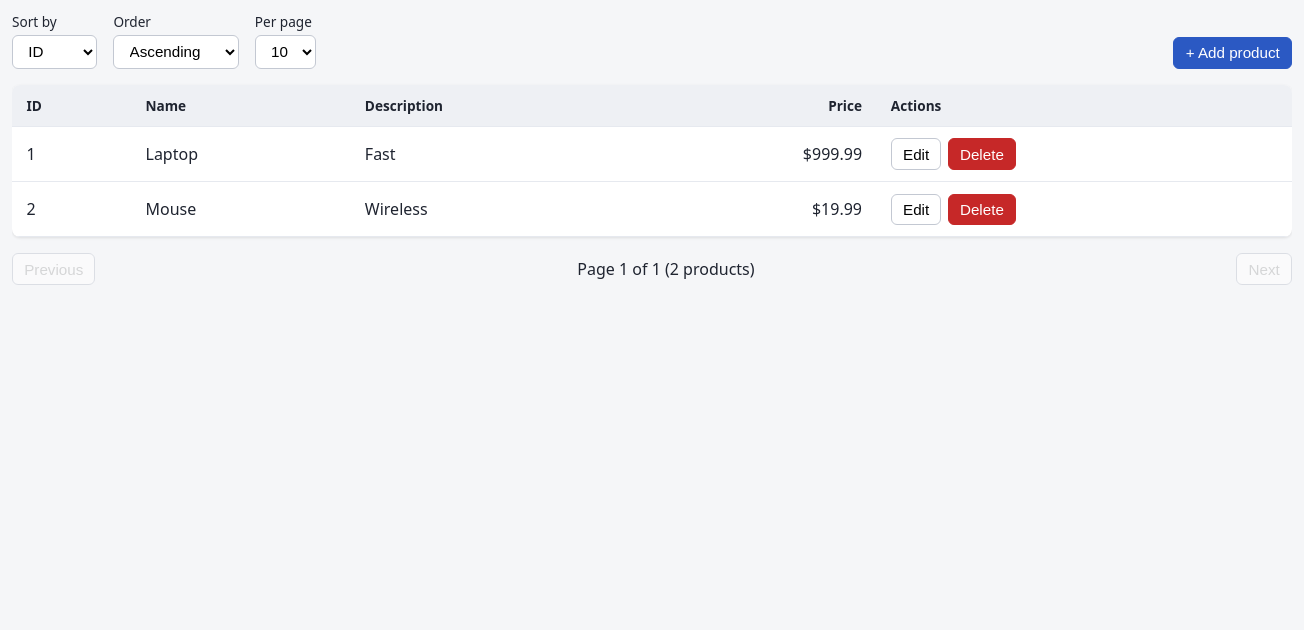
Scenario: ProductList › creates a product and shows it newest-first
Expected: the text "Laptop" is shown, [131,127,350,182]
Click the button "+ Add product".
click(1233, 53)  # box [1174,37,1292,69]
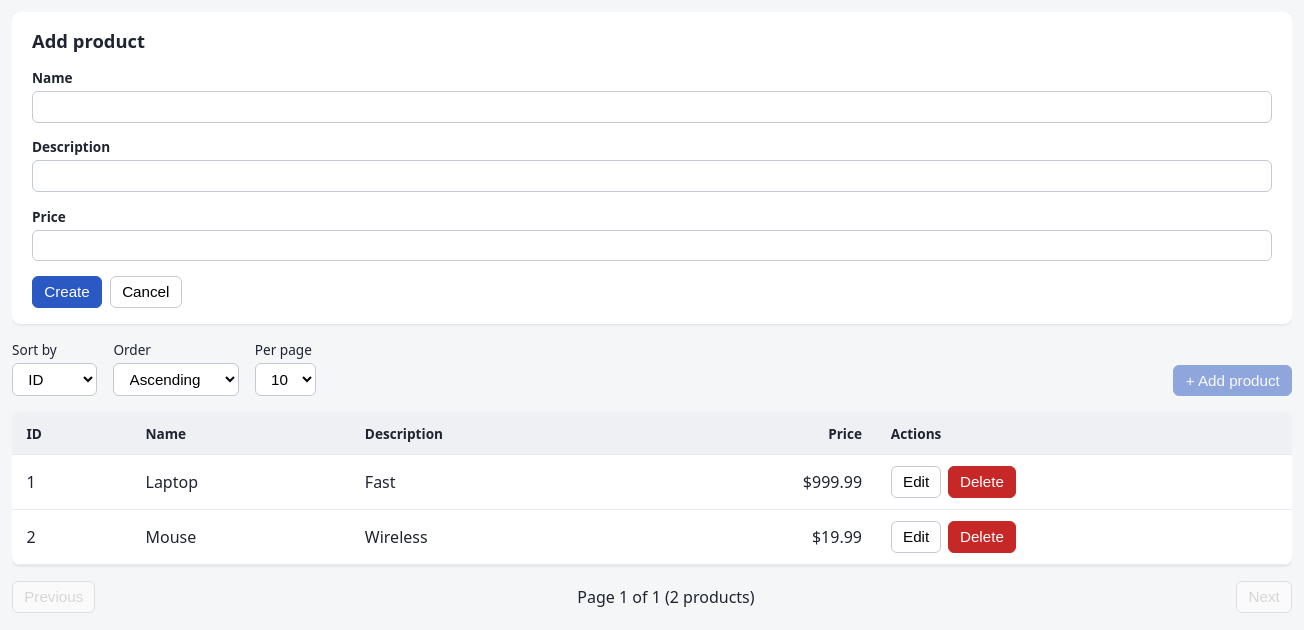
Type "Keyboard" into the field labelled "Name".
click(652, 107); type("Keyboard")  # box [32,91,1272,123]
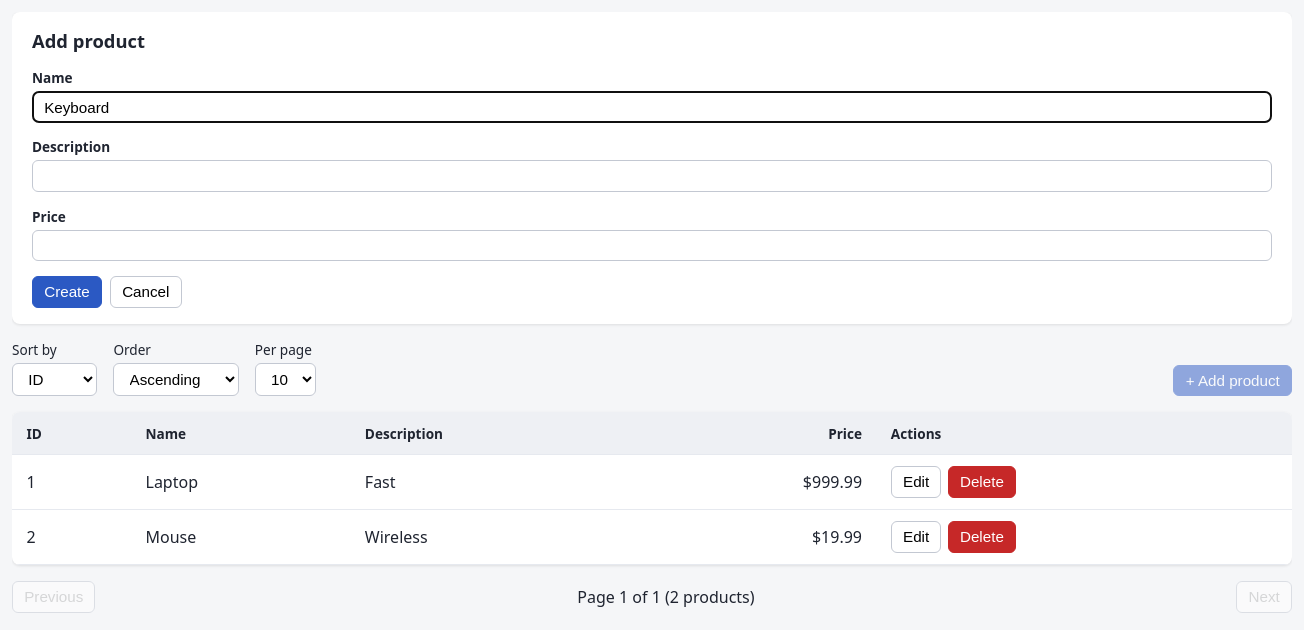
Type "49.5" into the number field labelled "Price".
click(652, 246); type("49.5")  # box [32,230,1272,261]
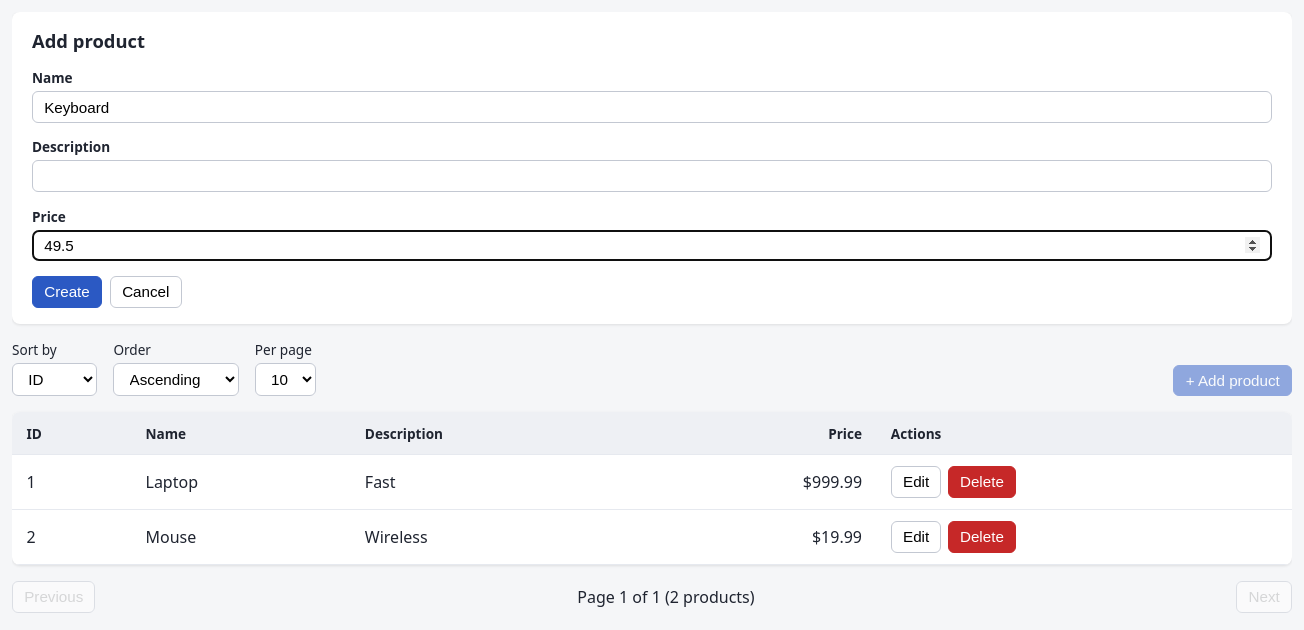
Click the button "Create".
click(67, 292)  # box [32,276,102,308]
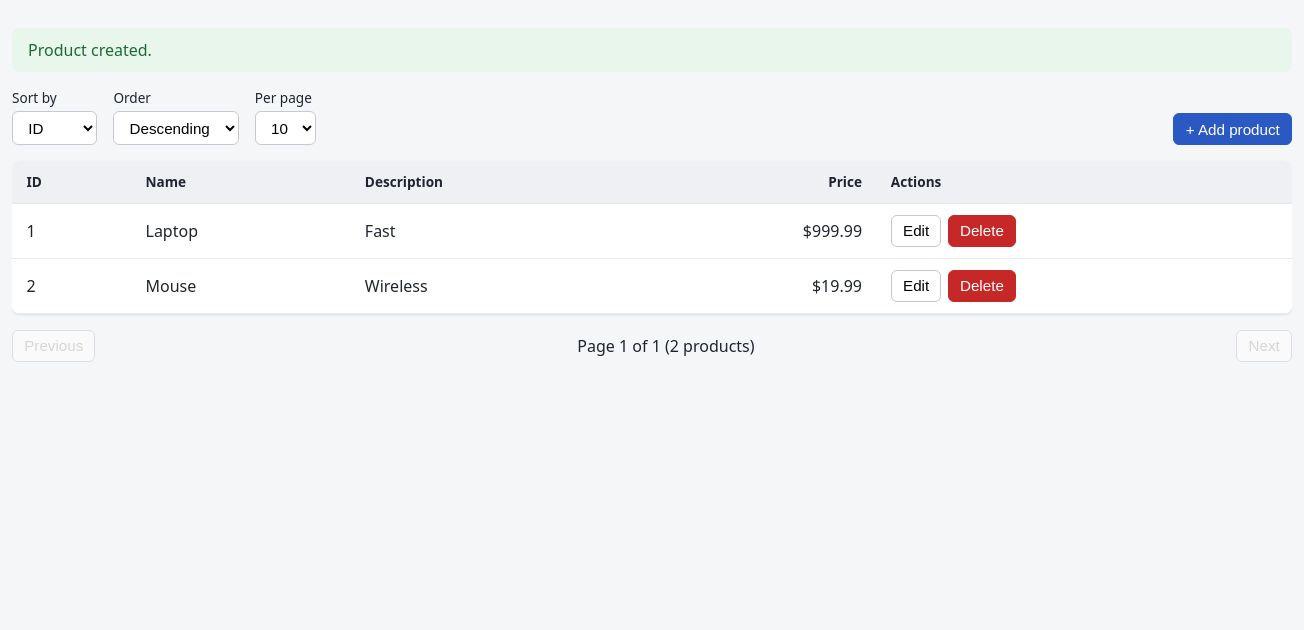
Expected: the text "Product created." is shown, [12,28,1292,72]
